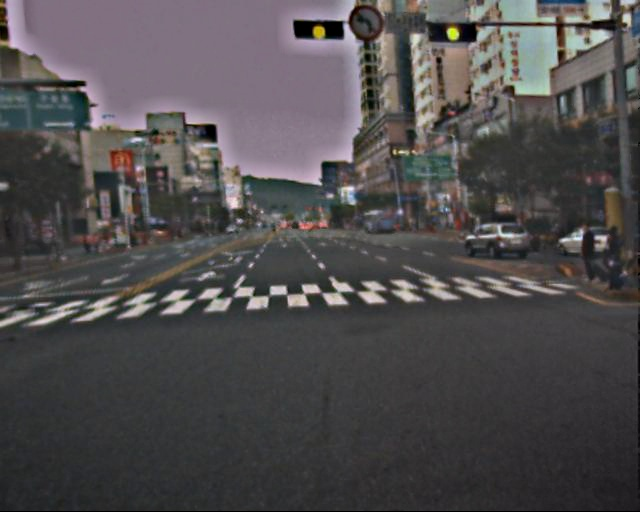person: (593, 225, 625, 287), (570, 224, 601, 285), (555, 215, 574, 253)
